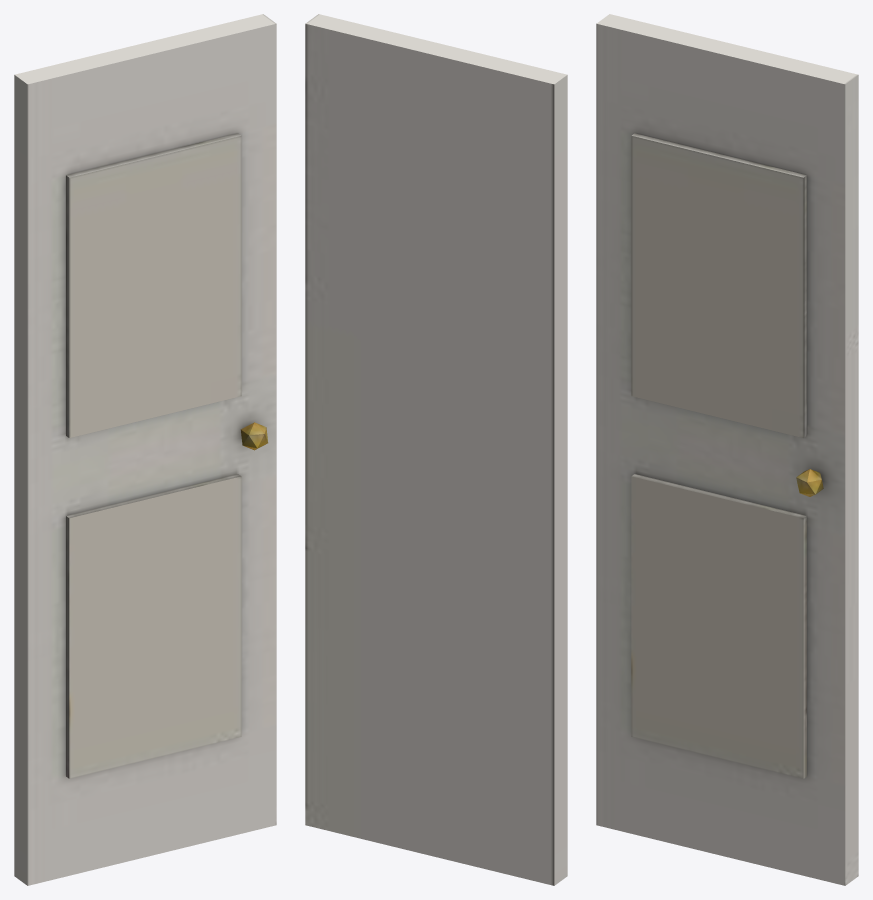
Rendered from puerta_cb.glb.
3 renders of one model, left to right at view 1: azimuth 30°, elevation 25°; view 2: azimuth 150°, elevation 25°; view 3: azimuth 330°, elevation 25°, orthographic.
Parts seen in each view (by area): view 1: puerta_cb; view 2: puerta_cb; view 3: puerta_cb.
Part boxes in pixels (x1=…): puerta_cb: x1=14, y1=14, x2=276, y2=885; puerta_cb: x1=305, y1=14, x2=567, y2=885; puerta_cb: x1=596, y1=14, x2=858, y2=885.
Size of the model in its own units: 1.3 by 4 by 0.2395.
Materials: 1 (1 with a texture image).
